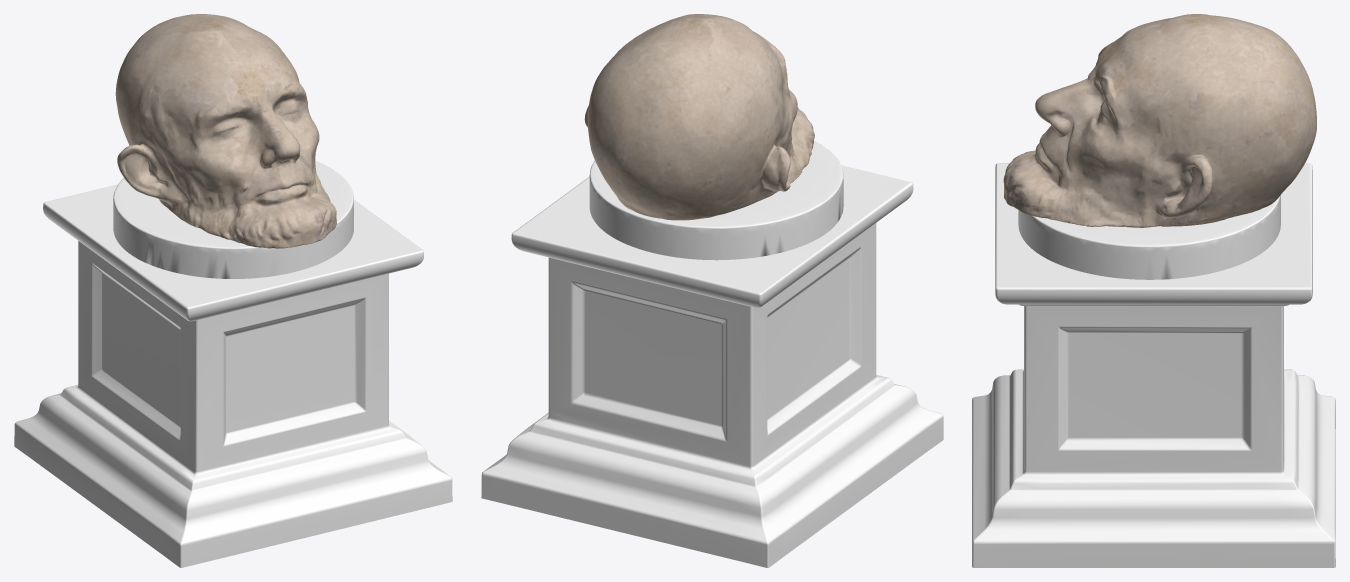
The model's file is artifact-1_aero-optimized.glb.
3 renders of one model, left to right at view 1: azimuth 30°, elevation 25°; view 2: azimuth 150°, elevation 25°; view 3: azimuth 270°, elevation 25°, orthographic. The views are drawn at different scales.
Visible parts, largest first — view 1: object 1, Artifact 1 3D Object; view 2: object 1, Artifact 1 3D Object; view 3: object 1, Artifact 1 3D Object.
Boxes of the visible parts, box(x1,y1,x2,y2) form: object 1: box(14, 161, 452, 567); Artifact 1 3D Object: box(115, 14, 336, 248); object 1: box(481, 140, 943, 567); Artifact 1 3D Object: box(584, 14, 814, 220); object 1: box(972, 163, 1335, 567); Artifact 1 3D Object: box(1003, 14, 1316, 227).
Size of the model in its own units: 0.3193 by 0.4872 by 0.3383.
2 materials, 2 textured.
